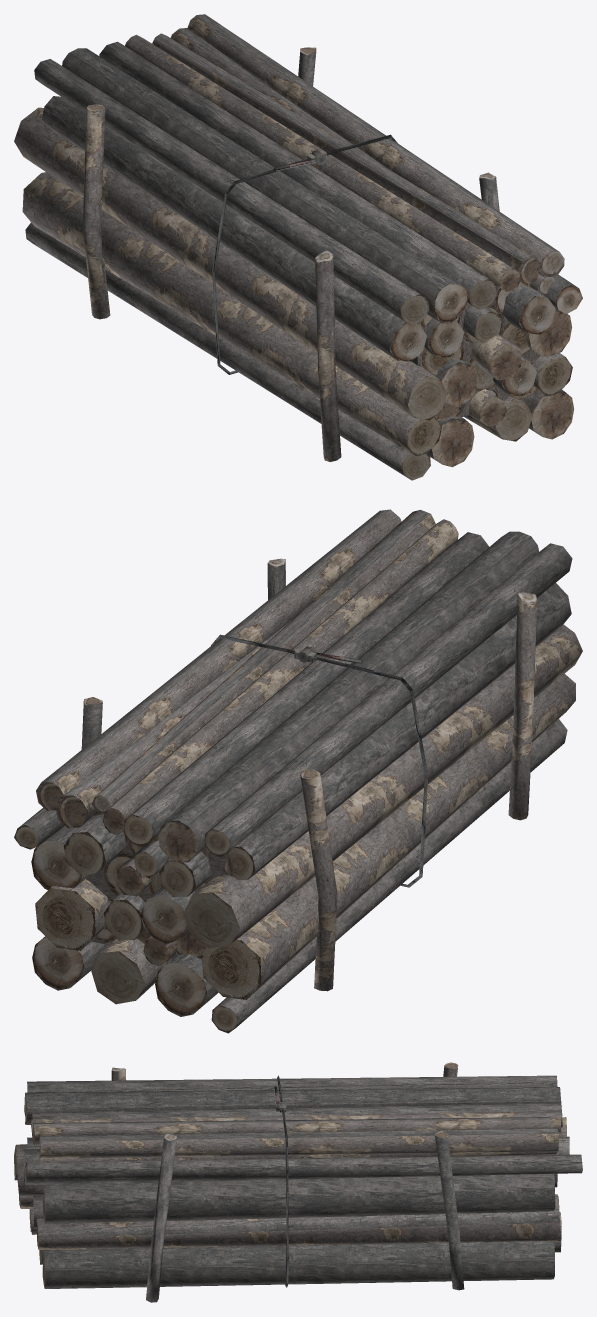
Rendered from Building_LinjgdJz007.glb.
3 views of the same model, one above another, from view 1: azimuth 30°, elevation 25°; view 2: azimuth 150°, elevation 25°; view 3: azimuth 270°, elevation 25° (orthographic). The views are drawn at different scales.
Parts seen in each view (by area): view 1: bmsl_linjgd_jz007; view 2: bmsl_linjgd_jz007; view 3: bmsl_linjgd_jz007.
Boxes of the visible parts, x1,y1,x2,y2 form: bmsl_linjgd_jz007: (14, 14, 582, 480); bmsl_linjgd_jz007: (14, 509, 582, 1033); bmsl_linjgd_jz007: (14, 1062, 582, 1302).
Size of the model in its own units: 2.95 by 2.49 by 7.69.
Materials: 1 (1 with a texture image).
